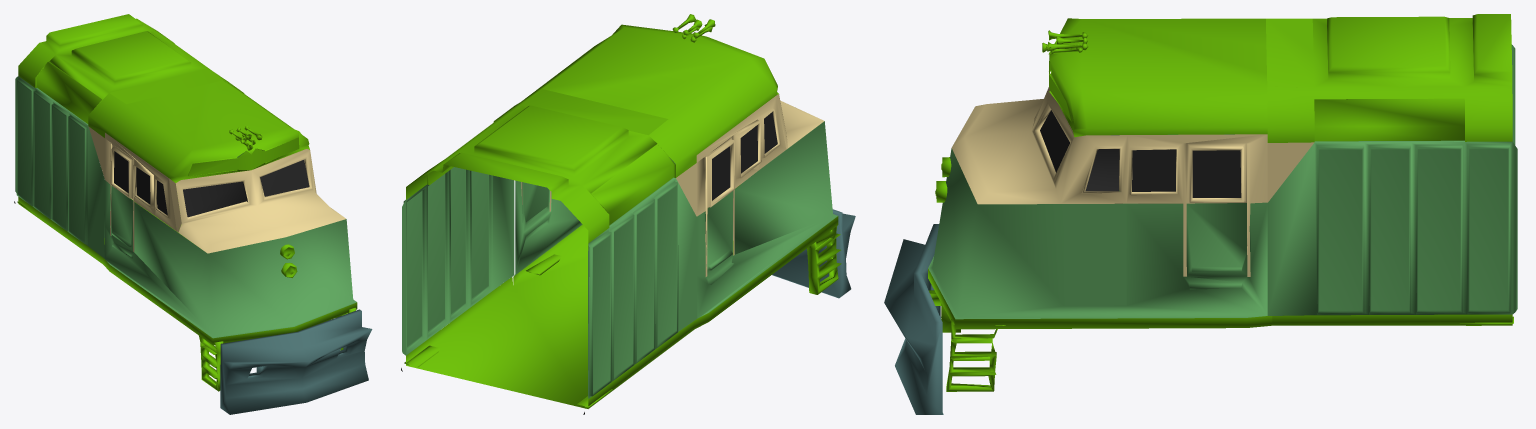
The model's file is final_train.fbx.
3 views of the same model, side by side, from view 1: azimuth 30°, elevation 25°; view 2: azimuth 150°, elevation 25°; view 3: azimuth 270°, elevation 25° (orthographic). The views are drawn at different scales.
Visible parts, largest first — view 1: body; view 2: body; view 3: body.
Part boxes in pixels (<box>): body: <box>14,14,372,414</box>; body: <box>401,14,855,414</box>; body: <box>884,14,1517,414</box>.
Bounding box in the file's own units: 1.11 × 1.62 × 2.86.
